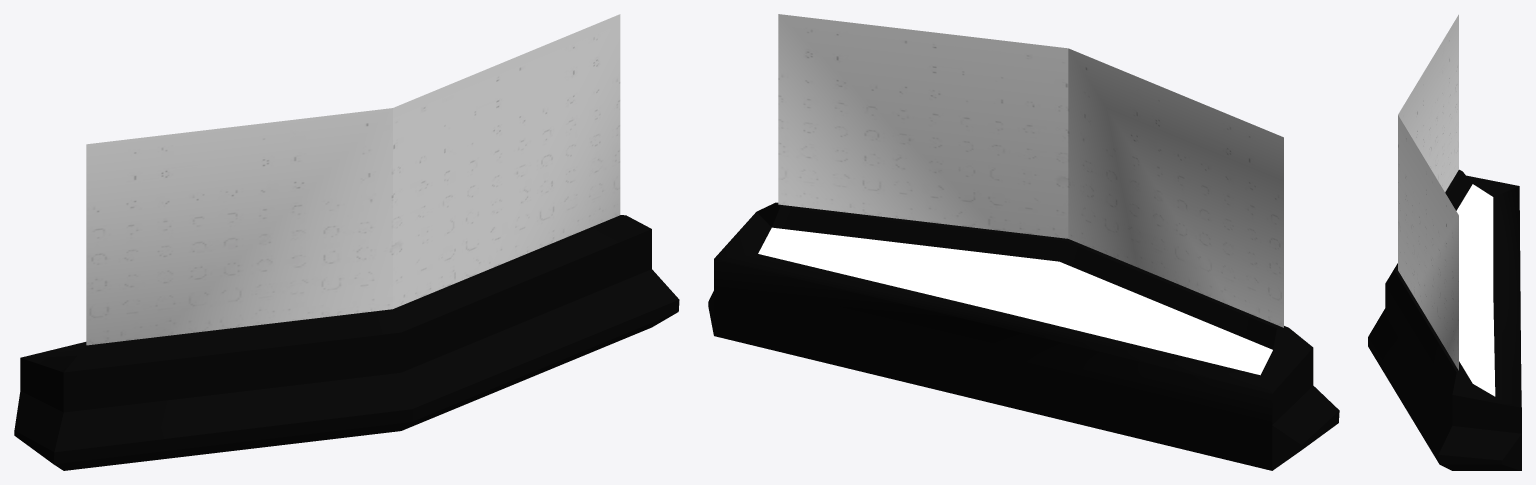
The model's file is light07.glb.
3 views of the same model, side by side, from view 1: azimuth 30°, elevation 25°; view 2: azimuth 150°, elevation 25°; view 3: azimuth 270°, elevation 25° (orthographic). The views are drawn at different scales.
Parts seen in each view (by area): view 1: Light07; view 2: Light07; view 3: Light07.
Boxes of the visible parts, <box> form: Light07: <box>14,14,679,470</box>; Light07: <box>708,14,1339,470</box>; Light07: <box>1368,14,1521,470</box>.
Bounding box in the file's own units: 2.23 × 1.08 × 0.6147.
Materials: 3 (1 with a texture image).
